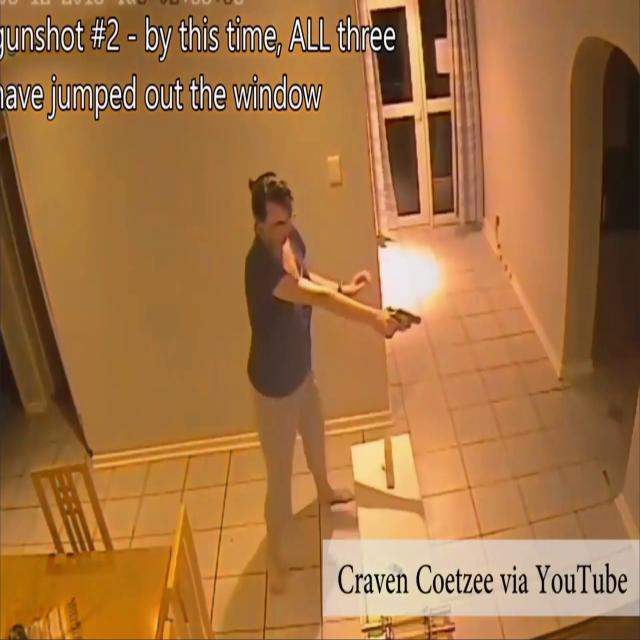Gun: (378, 293, 430, 344)
